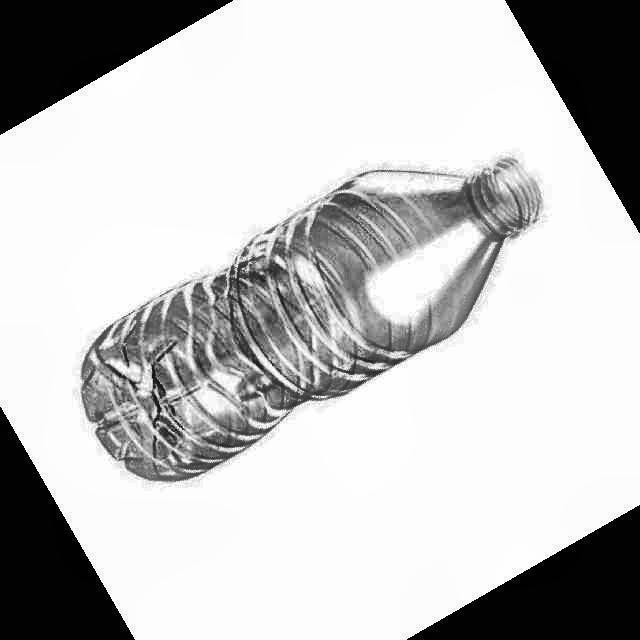plastic: (82, 159, 541, 480)
